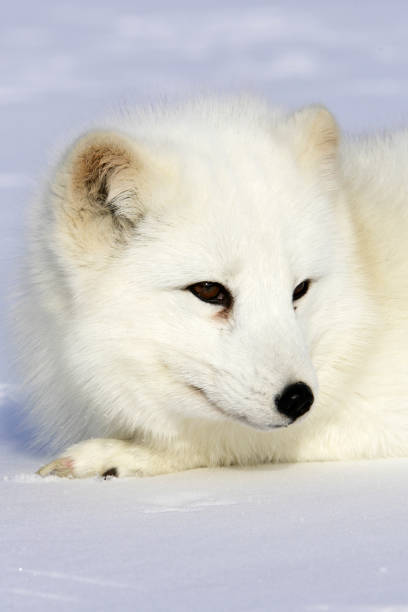arcticfox: (154, 199, 326, 432)
